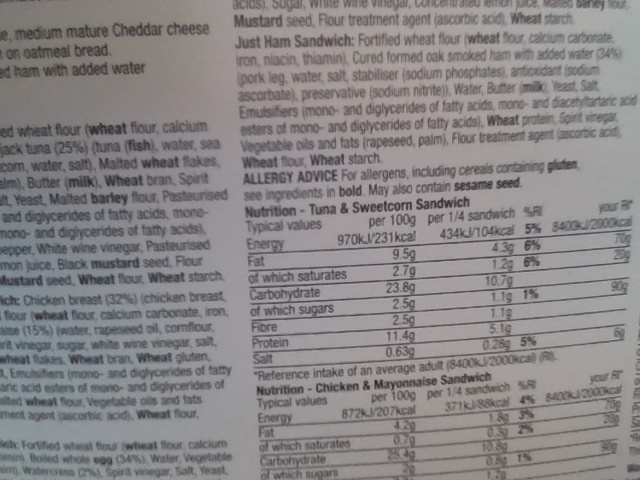milk: (66, 176, 95, 188)
wheat: (79, 272, 116, 287)
